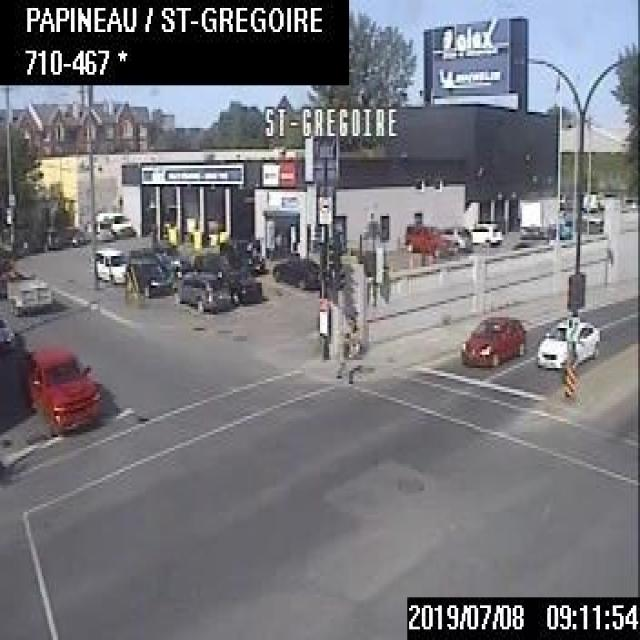vehicle: (20, 339, 102, 432), (460, 310, 524, 366), (536, 318, 605, 366), (175, 266, 235, 313), (0, 258, 47, 314), (129, 252, 174, 298), (518, 194, 565, 234), (404, 220, 451, 258), (272, 256, 327, 288), (219, 236, 264, 273), (89, 244, 132, 282), (152, 239, 190, 276), (220, 269, 260, 302), (96, 209, 132, 239), (191, 250, 231, 276), (440, 220, 470, 254), (468, 220, 502, 247), (0, 304, 15, 352)
